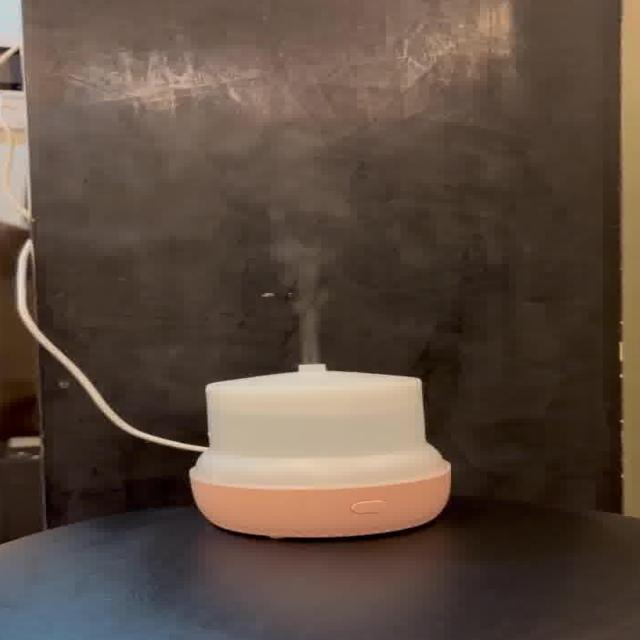fire: (176, 99, 343, 360)
